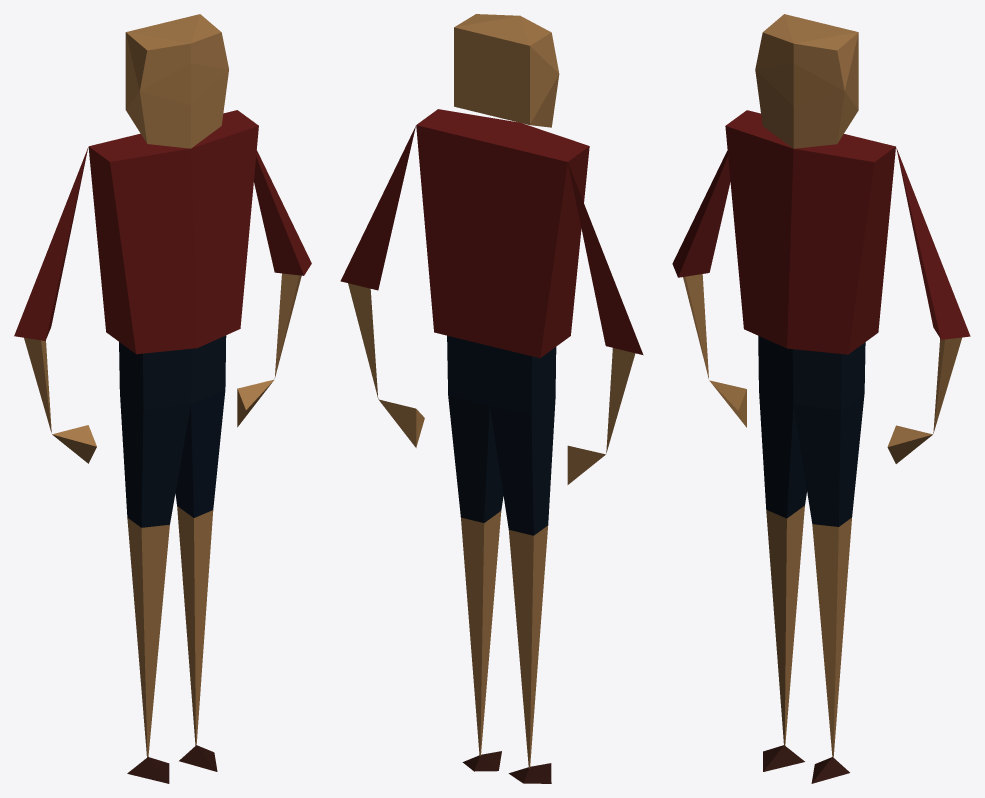
Rendered from person.obj.
The picture shows the model from 3 angles, left to right: view 1: azimuth 30°, elevation 25°; view 2: azimuth 150°, elevation 25°; view 3: azimuth 330°, elevation 25°; orthographic projection.
Visible parts, largest first — view 1: Plane; view 2: Plane; view 3: Plane.
Boxes of the visible parts, x1,y1,x2,y2 form: Plane: (14,14,311,783); Plane: (340,14,643,783); Plane: (672,14,970,783).
Size of the model in its own units: 8 by 18.76 by 1.82.
